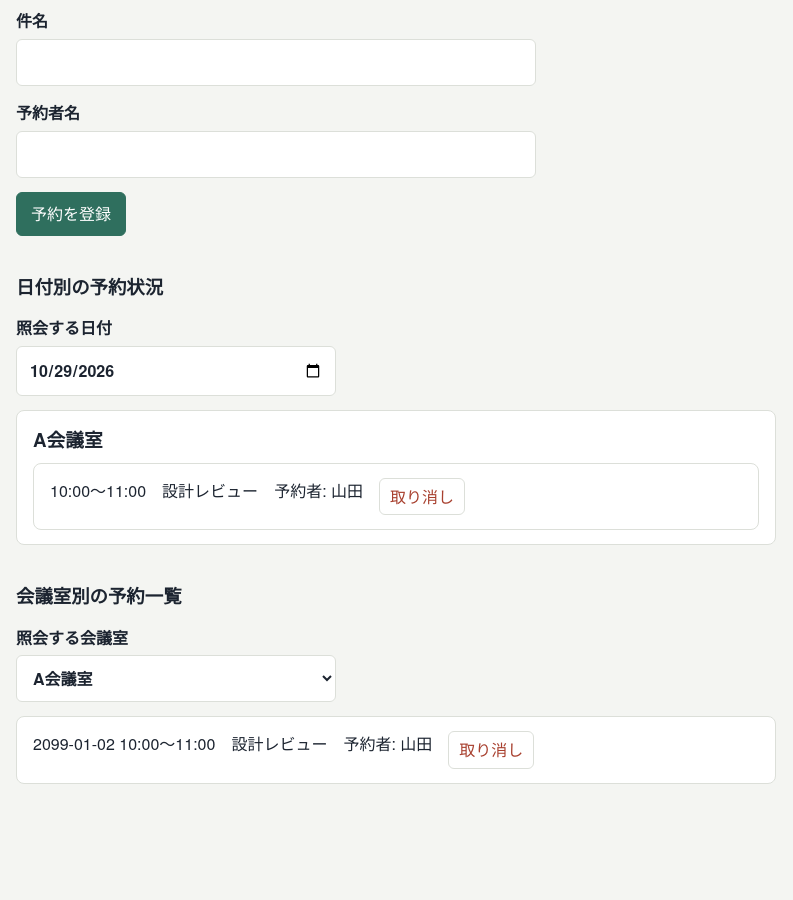
ReservationRegistration › 予約を取り消すと一覧を更新して成功メッセージを表示する
This screenshot has width=793, height=900.
(page scrolled)
Click the button with aria-label "設計レビューの予約を取り消す". click: (422, 496)
box: [379, 478, 465, 515]
(page scrolled)
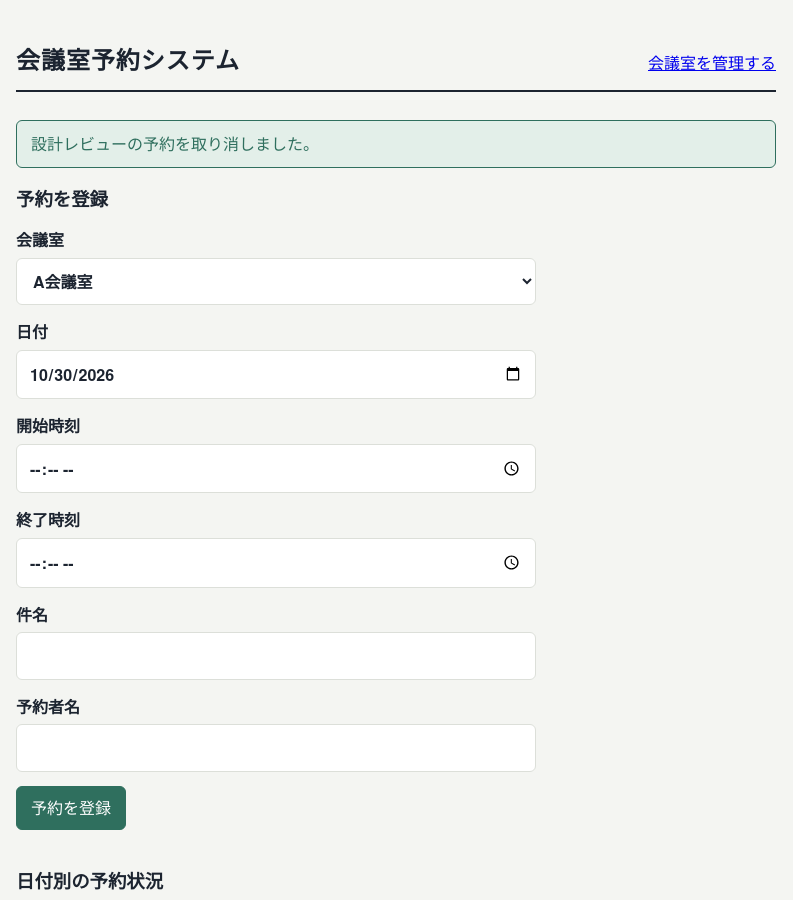
Expected: the message reads "設計レビューの予約を取り消しました。", [31, 132, 319, 155]
